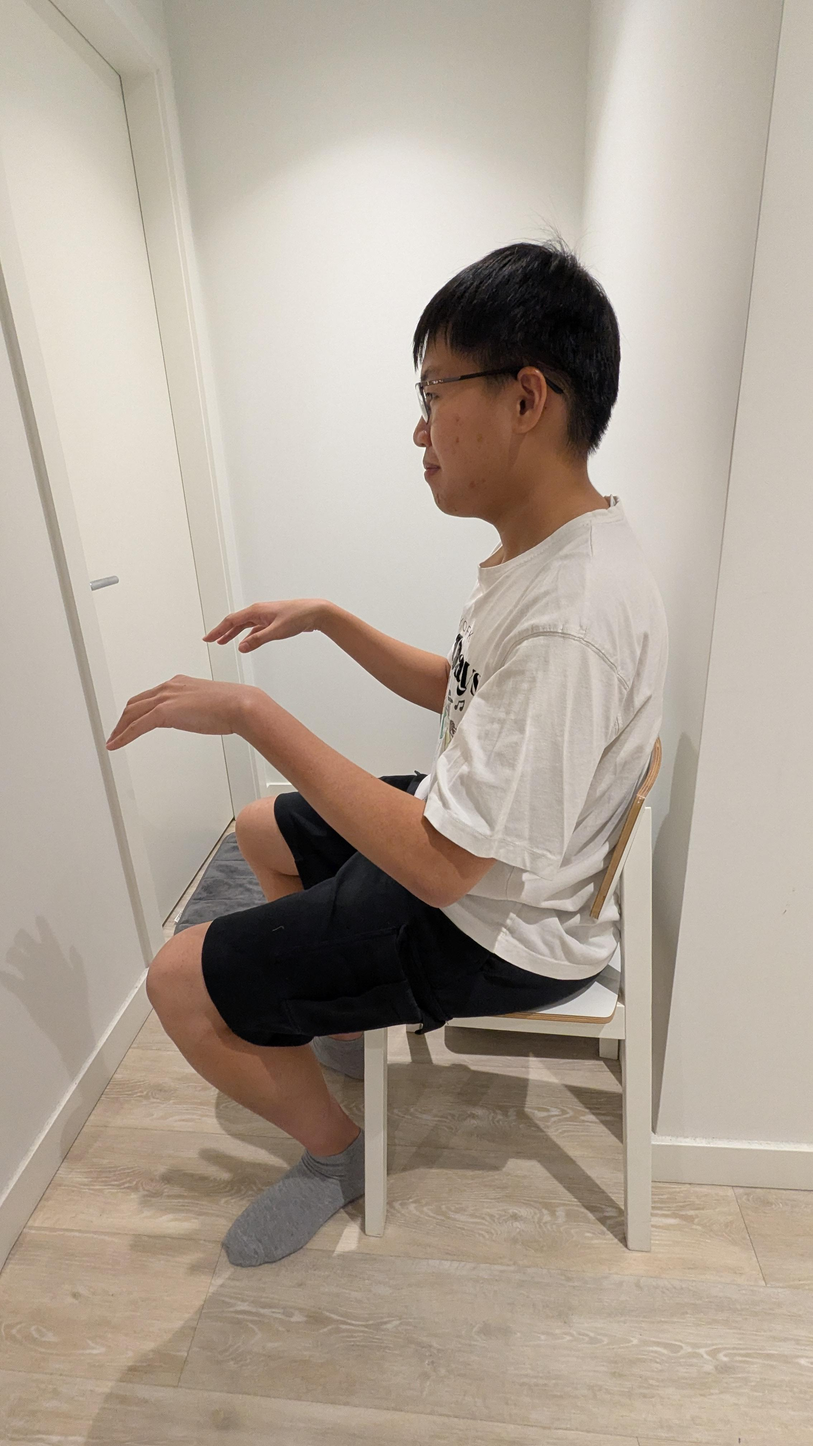GoodPosture: (106, 242, 668, 1262)
